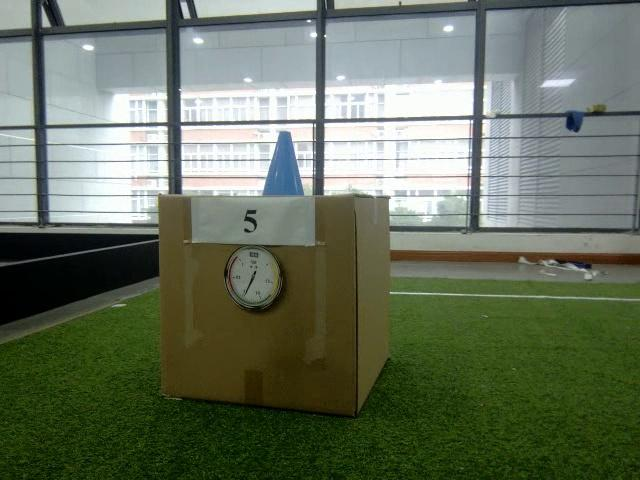5: (242, 208, 258, 237)
Dashboard: (223, 244, 284, 312)
blue_barrel: (259, 131, 308, 198)
ssi: (248, 250, 261, 260)
